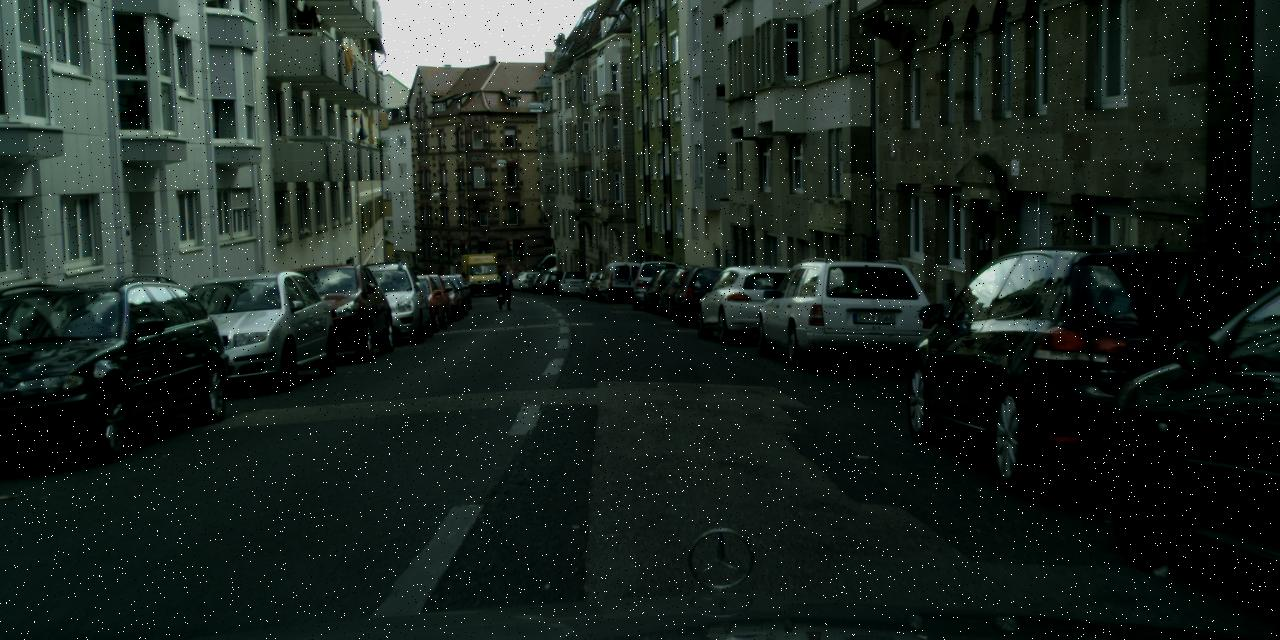ped: (496, 264, 514, 308)
